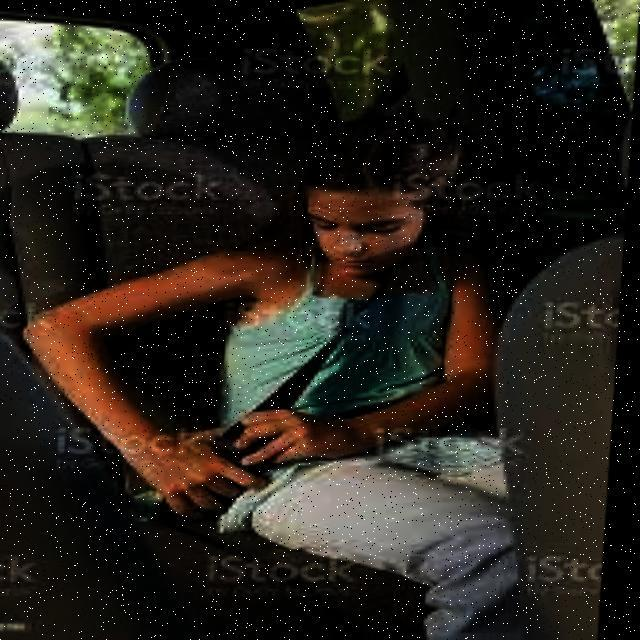seatbelt: (179, 239, 506, 453)
